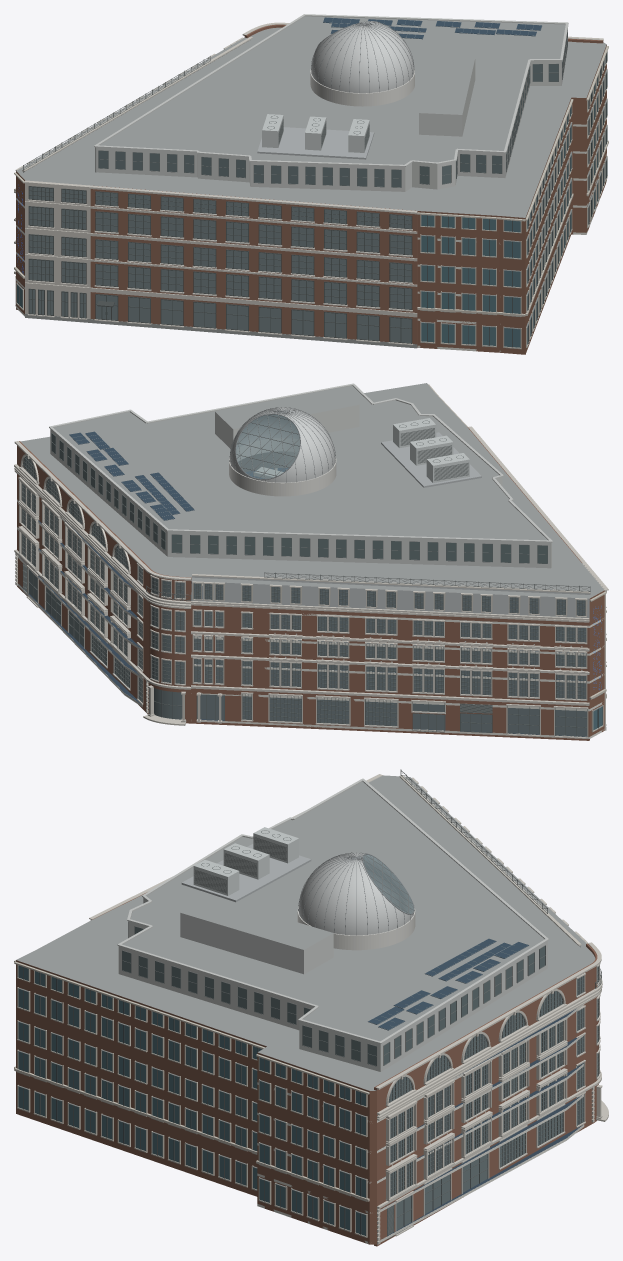
The model's file is lrb-exterior-3a86d57b9937.glb.
The picture shows the model from 3 angles, top to bottom: view 1: azimuth 30°, elevation 25°; view 2: azimuth 150°, elevation 25°; view 3: azimuth 270°, elevation 25°; orthographic projection. The views are drawn at different scales.
Parts seen in each view (by area): view 1: LRB.001; view 2: LRB.001; view 3: LRB.001.
Boxes of the visible parts, box(x1,y1,x2,y2) form: LRB.001: box(14, 14, 608, 354); LRB.001: box(14, 383, 608, 740); LRB.001: box(14, 769, 608, 1246).
Bounding box in the file's own units: 89.68 × 33.13 × 70.98.
